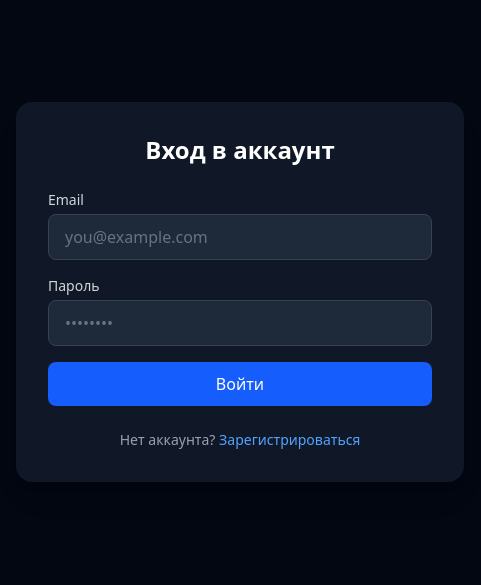
Test case: AuthPage › switches to register form
Click the button "Зарегистрироваться".
click(290, 440)  # box [219,430,360,450]
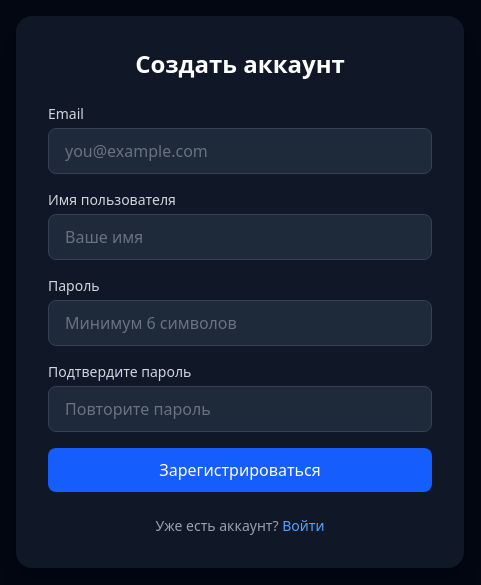
Expected: the heading "Создать аккаунт" is shown, [135,47,345,80]
